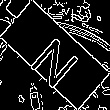N_NE: (24, 23, 86, 87)
